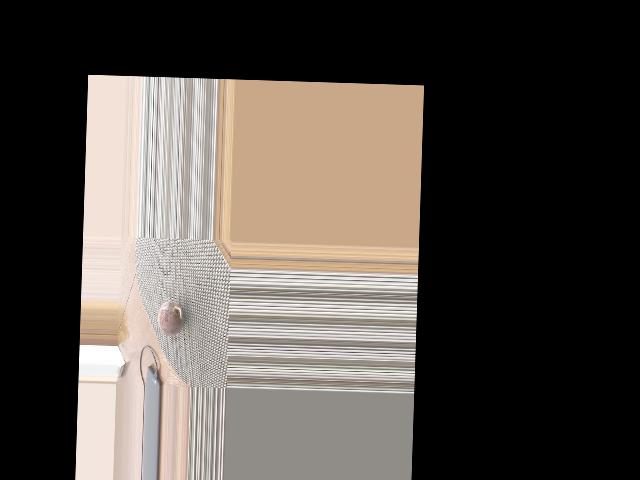beet: (157, 301, 184, 336)
